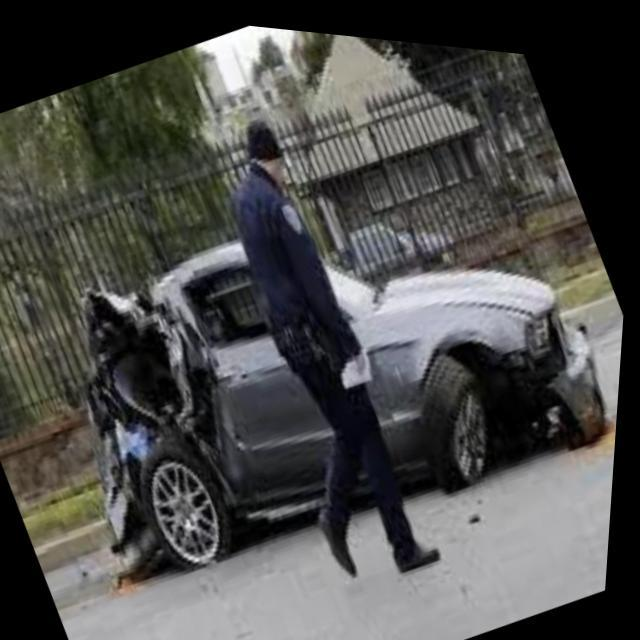crash: (84, 274, 250, 548)
dislocated part: (401, 276, 614, 467)
